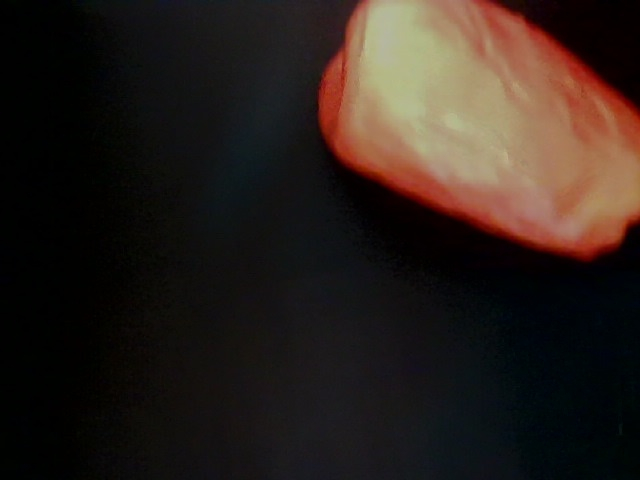YHLJ: (348, 83, 475, 166)
